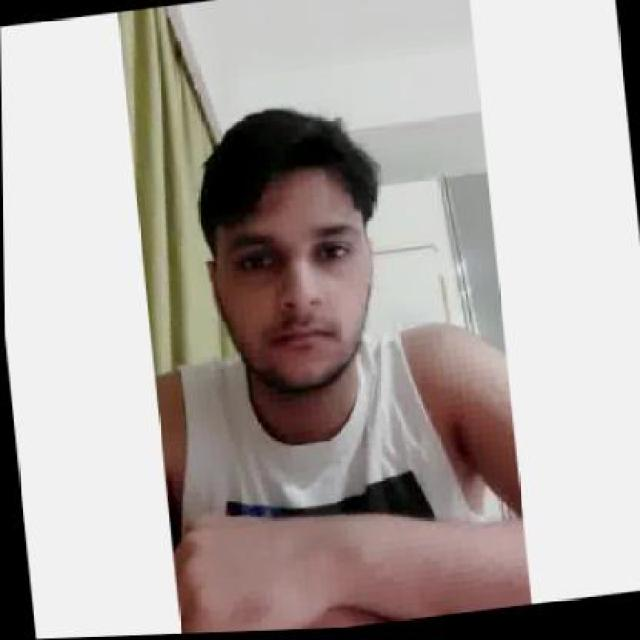attentif: (190, 97, 384, 406)
